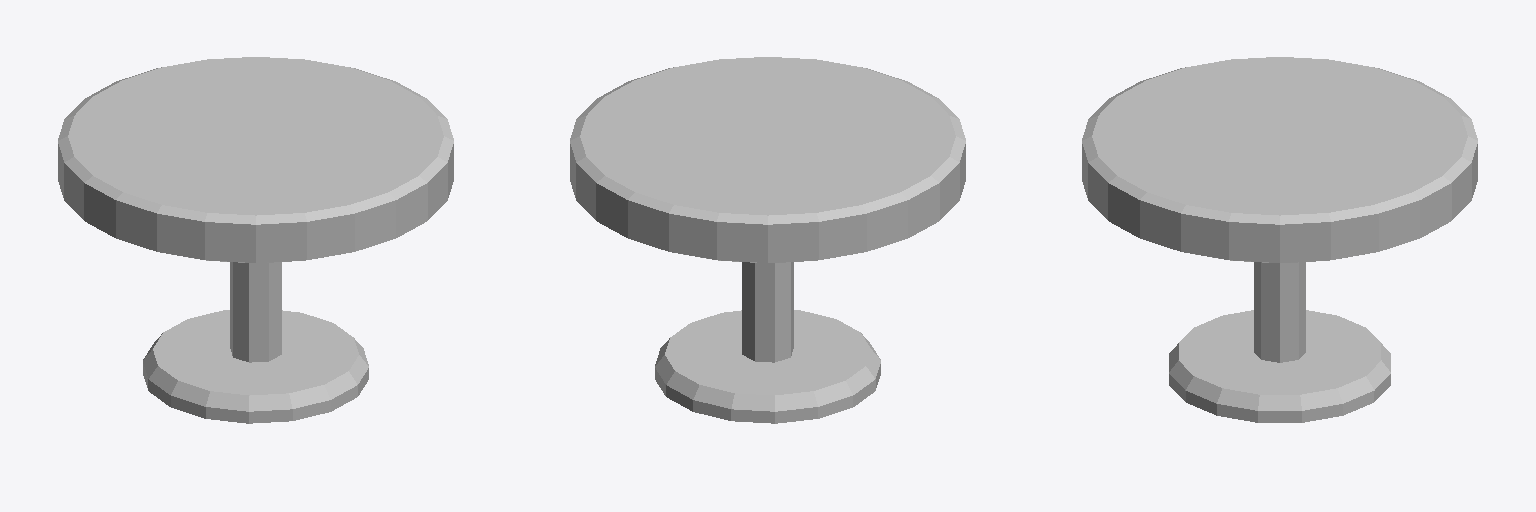
File: table_round_A_small.obj
3 renders of one model, left to right at view 1: azimuth 30°, elevation 25°; view 2: azimuth 150°, elevation 25°; view 3: azimuth 270°, elevation 25°, orthographic.
Visible parts, largest first — view 1: table_round_A_small_Cylinder.070; view 2: table_round_A_small_Cylinder.070; view 3: table_round_A_small_Cylinder.070.
Boxes of the visible parts, box(x1,y1,x2,y2) form: table_round_A_small_Cylinder.070: box(58, 57, 453, 423); table_round_A_small_Cylinder.070: box(570, 57, 965, 423); table_round_A_small_Cylinder.070: box(1082, 57, 1477, 422).
Size of the model in its own units: 1.5 by 1 by 1.5.